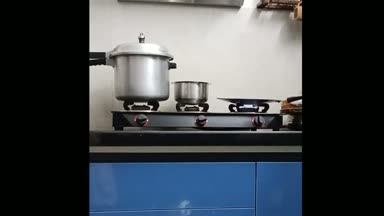flame_gas_off: (123, 101, 157, 126), (178, 102, 209, 126)
flame_gas_on: (233, 103, 268, 126)
